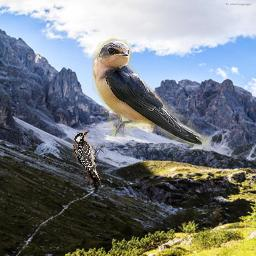Swallow: (92, 34, 214, 151)
Woodpecker: (70, 128, 110, 190)
